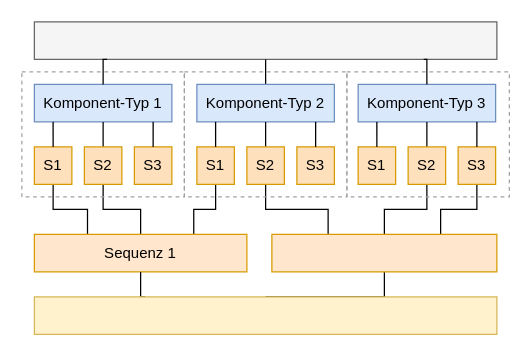
Some shapes in this 531 by 356 pixel diagram are drawn without their labels. The shapes that lost their labels are listed below. From the top down, each one's box as (x1, y1, x2, y2) in pixels, then its label:
(33, 21, 497, 59): System
(271, 233, 497, 272): Sequenz 2
(33, 296, 497, 334): Arbeitsplan
